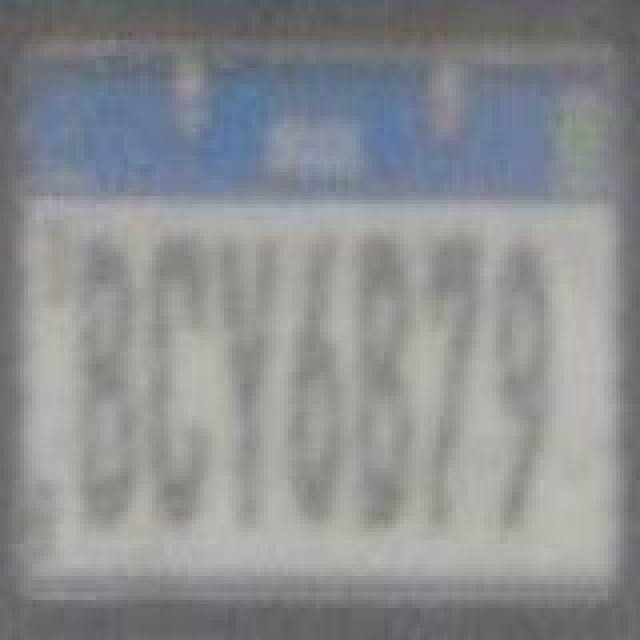6: (280, 232, 344, 528)
7: (416, 236, 480, 532)
9: (486, 236, 554, 532)
B: (354, 236, 414, 532), (78, 234, 138, 518)
C: (144, 234, 208, 526)
Y: (218, 238, 278, 530)
